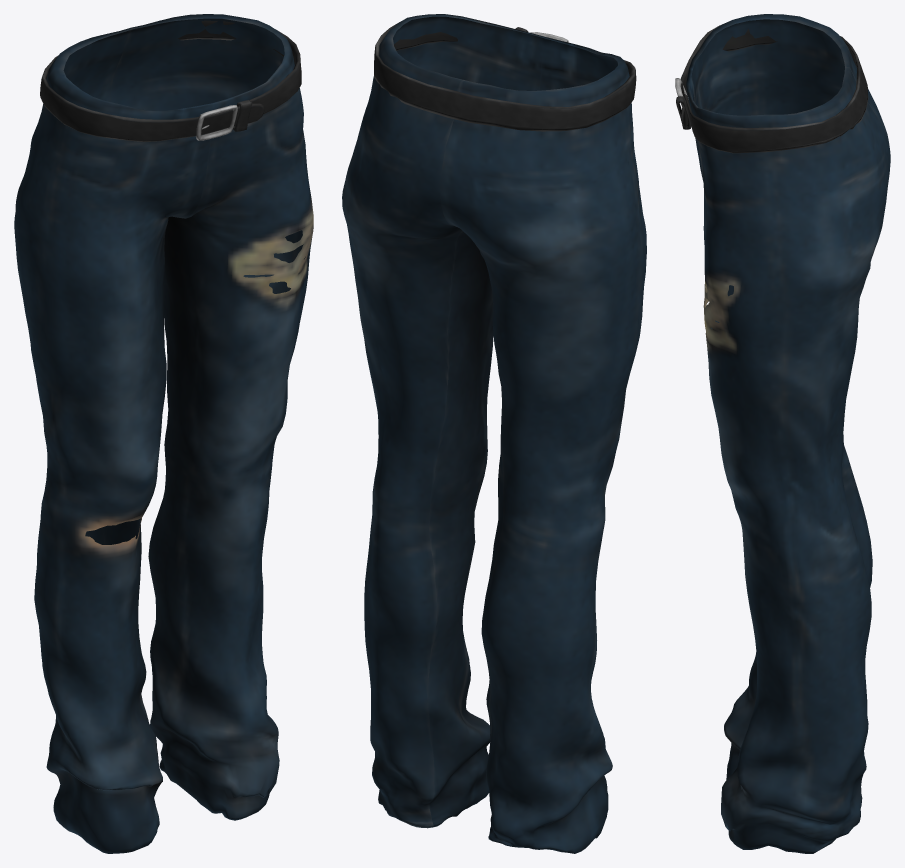
Rendered from womanpants2.obj.
3 renders of one model, left to right at view 1: azimuth 30°, elevation 25°; view 2: azimuth 150°, elevation 25°; view 3: azimuth 270°, elevation 25°, orthographic. The views are drawn at different scales.
Visible parts, largest first — view 1: Jeans; view 2: Jeans; view 3: Jeans.
Boxes of the visible parts, <box> form: Jeans: <box>14,14,313,853</box>; Jeans: <box>342,14,646,853</box>; Jeans: <box>675,14,890,853</box>.
Size of the model in its own units: 38.61 by 104 by 26.97.
